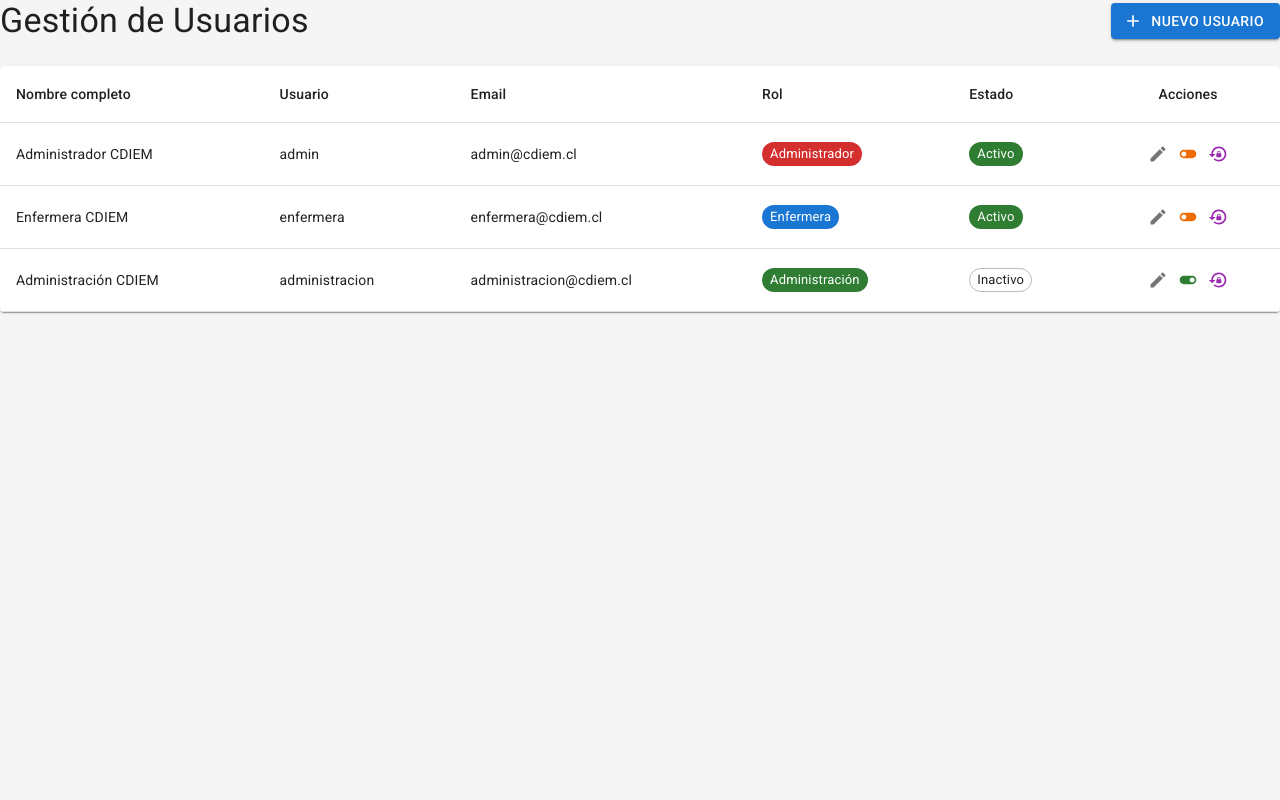
Test: Gestión de Usuarios › click en botón reset abre el diálogo de contraseña
Expected: the text "Administrador CDIEM" is shown, [0,122,264,186]
What coordinates should you click on to do the following:
click the button named "Resetear contraseña" in the row of "Administrador CDIEM"
I would click on:
 (1218, 154)
Its box is [1203,139,1233,169].
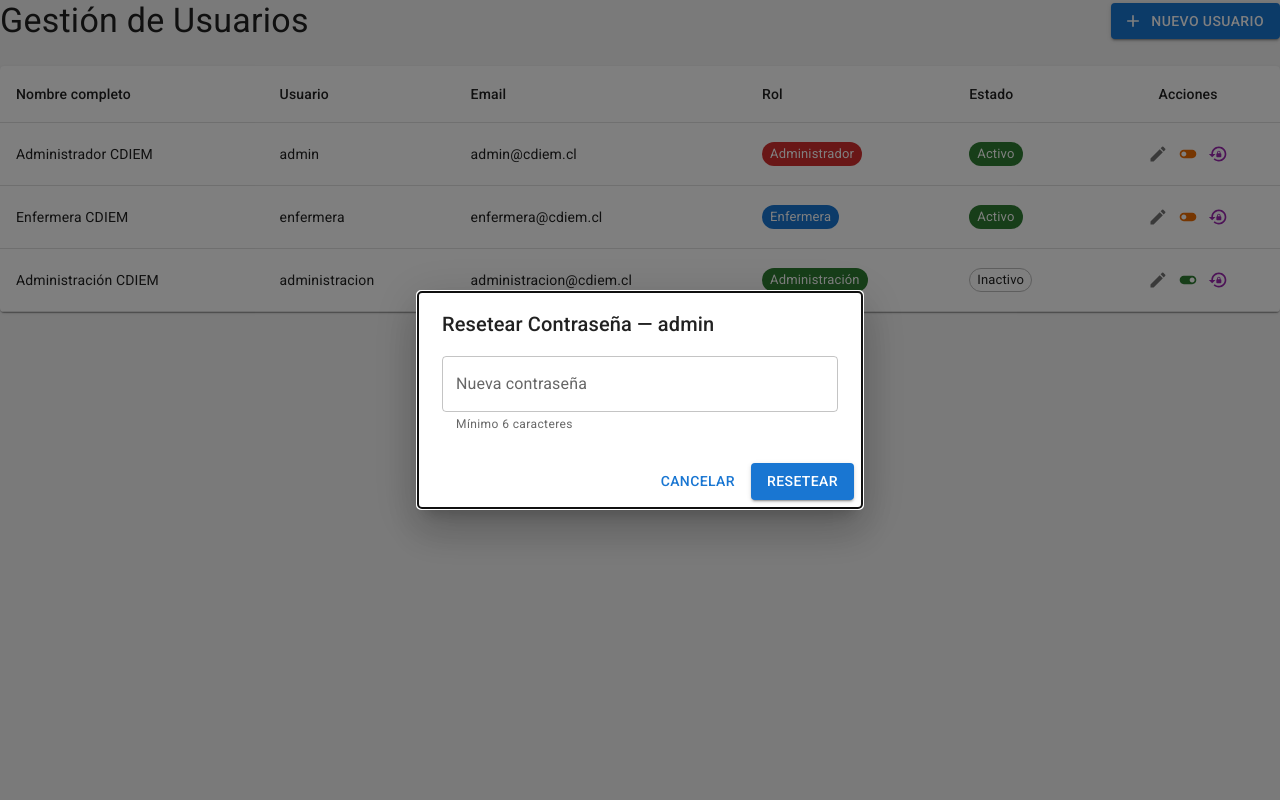
Expected: the dialog is shown, [418,292,862,508]
